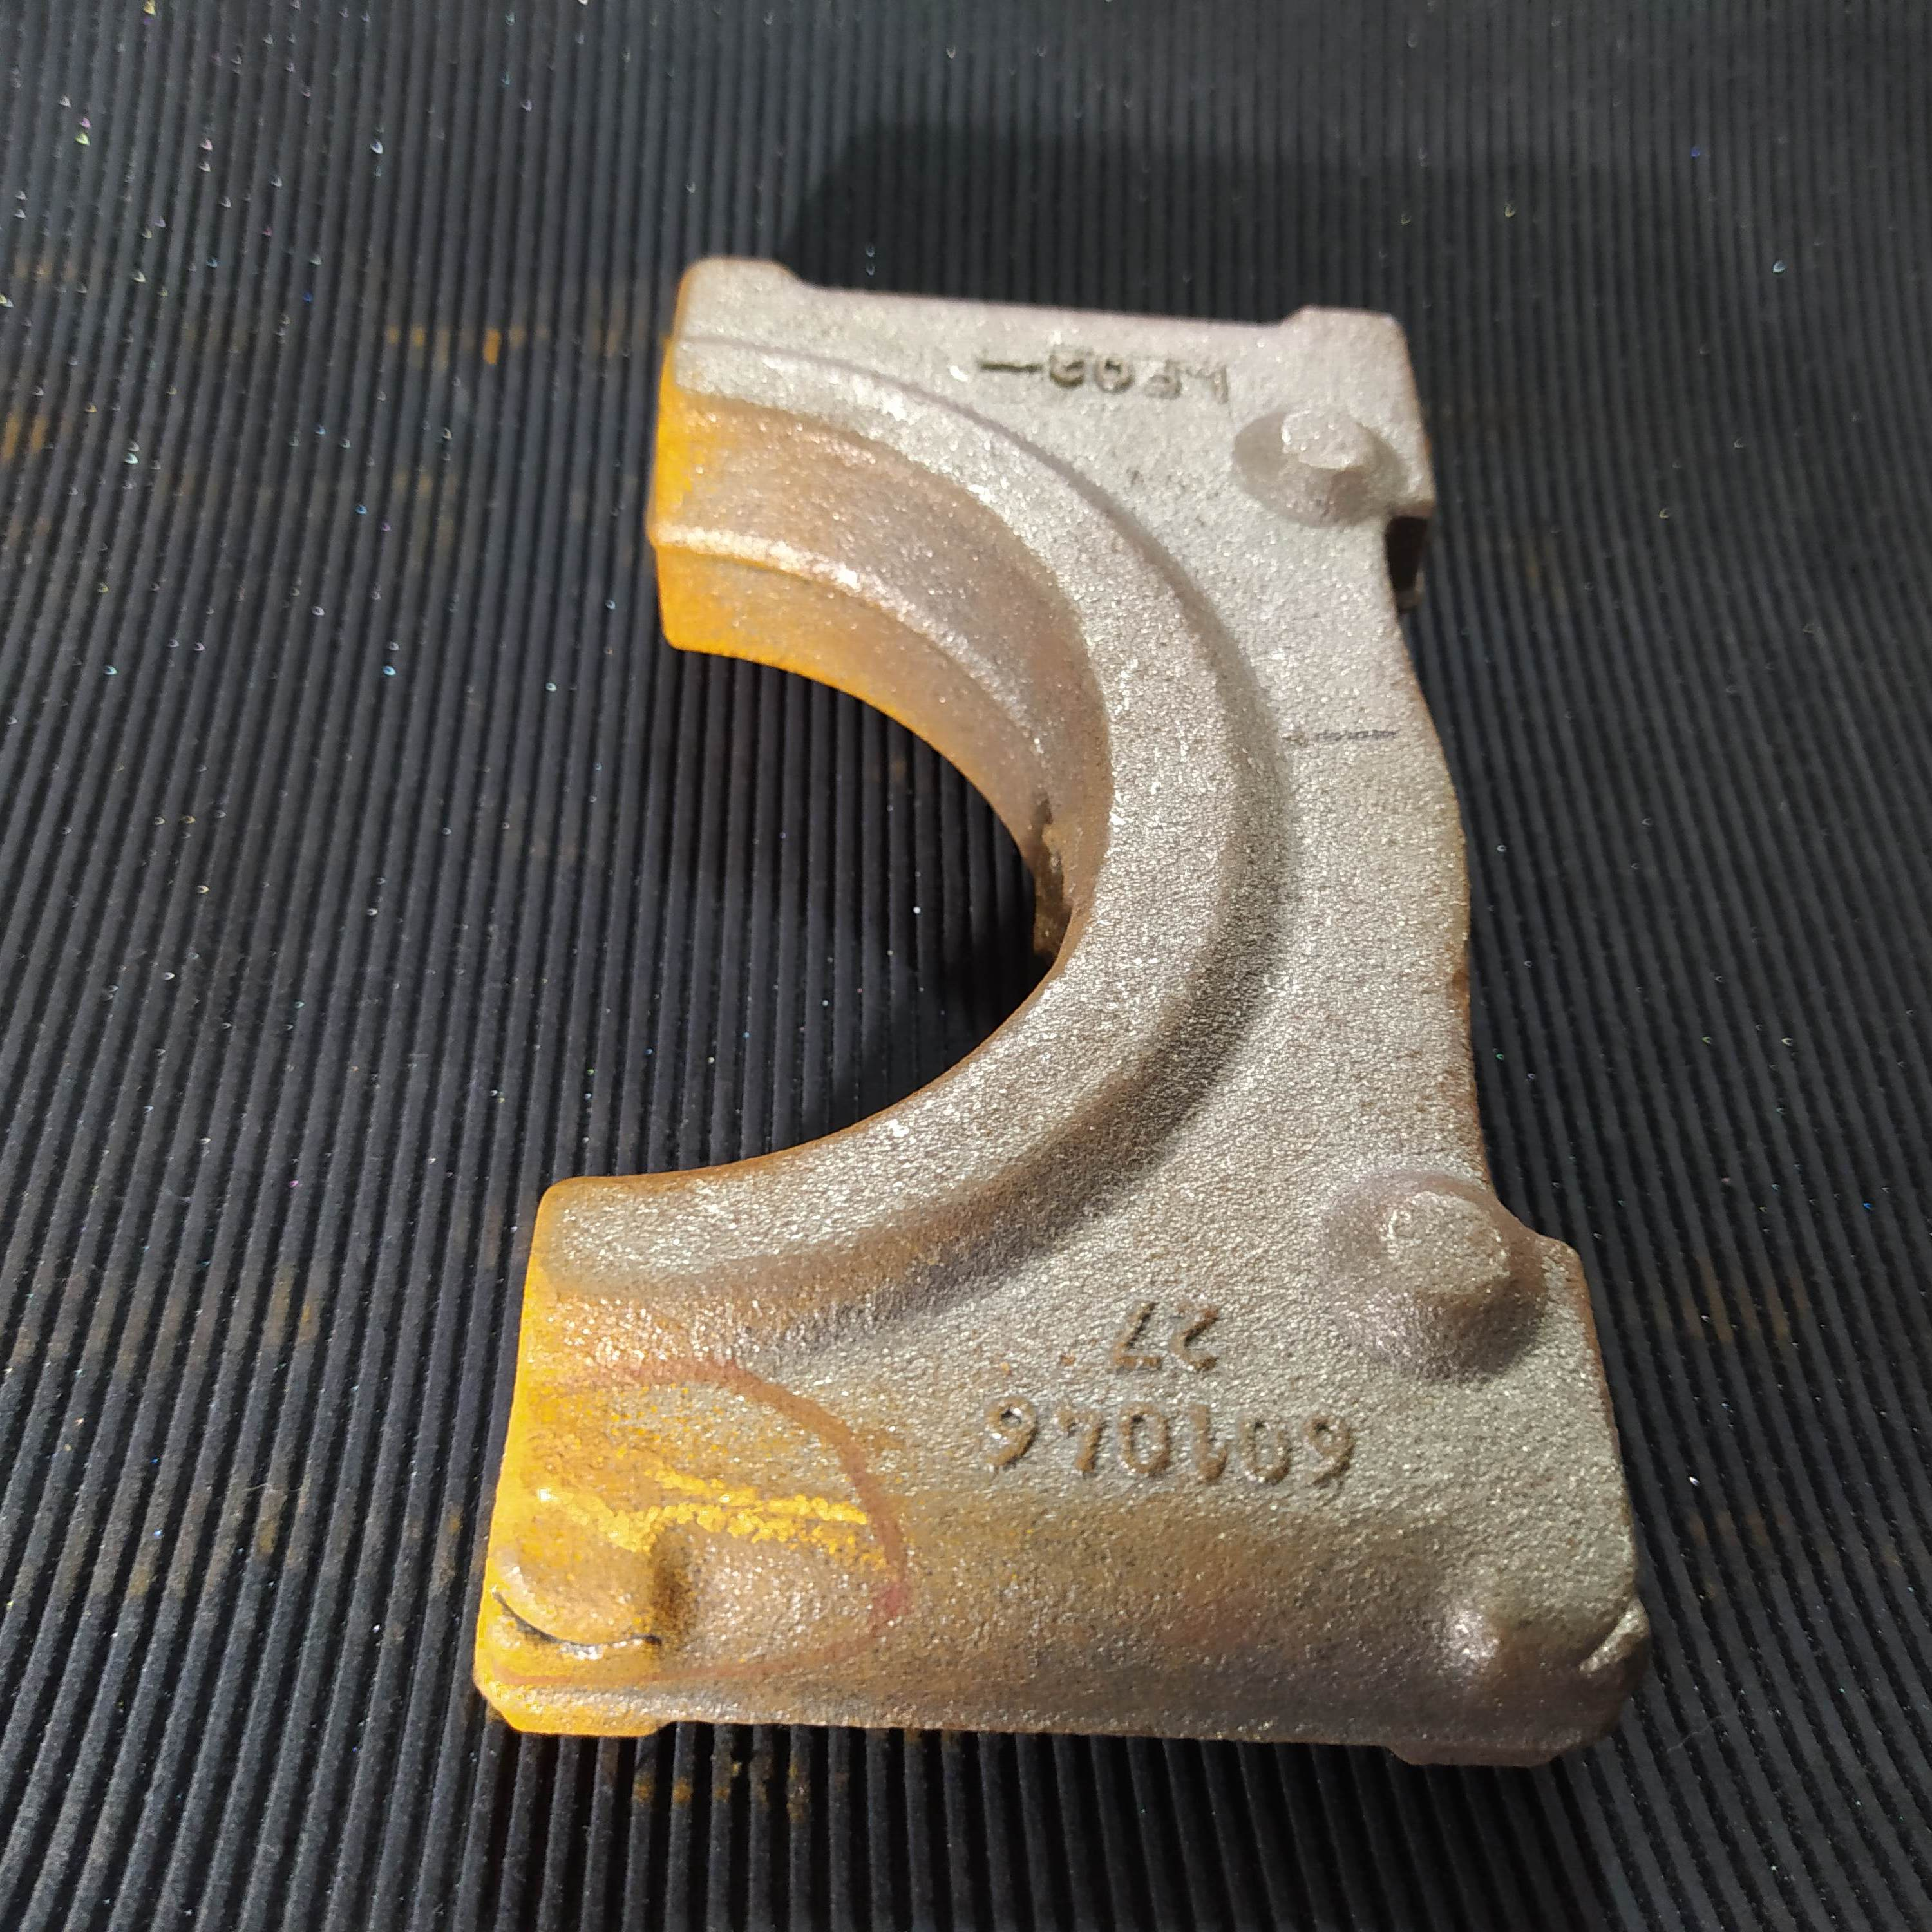rechupe: (481, 1580, 663, 1667), (1571, 1580, 1645, 1683)
